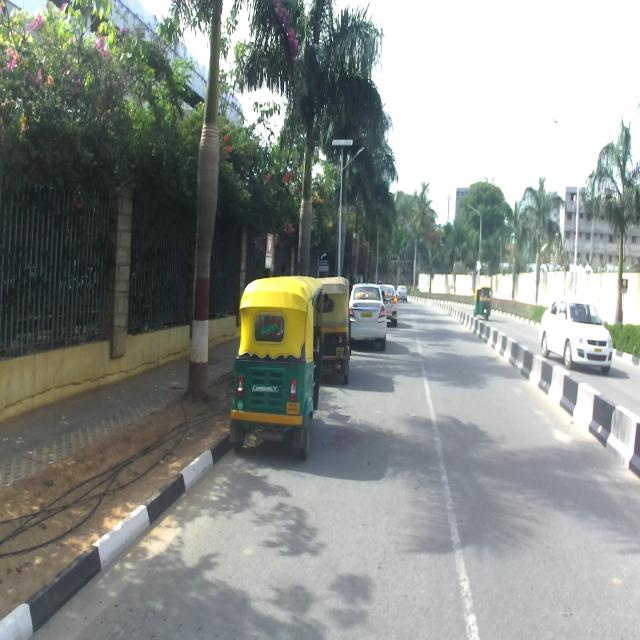auto ahead at: (236, 283, 321, 447), (318, 281, 351, 385)
car ahead at: (352, 289, 388, 345)
tree ahead at: (193, 0, 224, 401)
